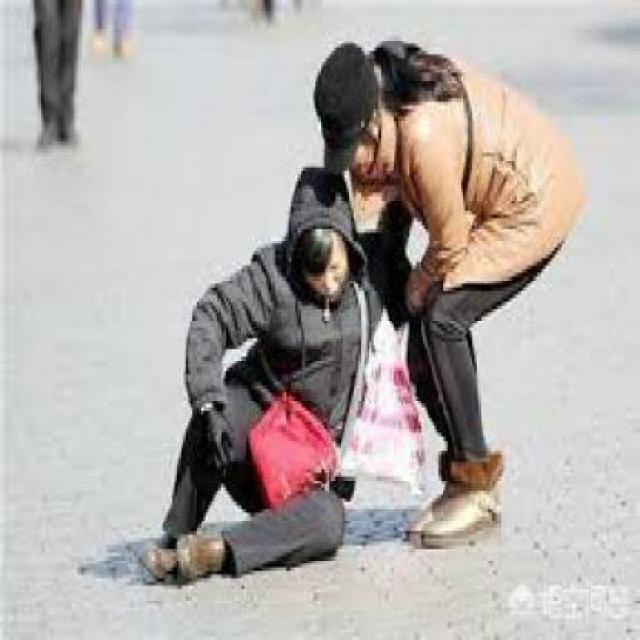fall: (119, 152, 387, 600)
